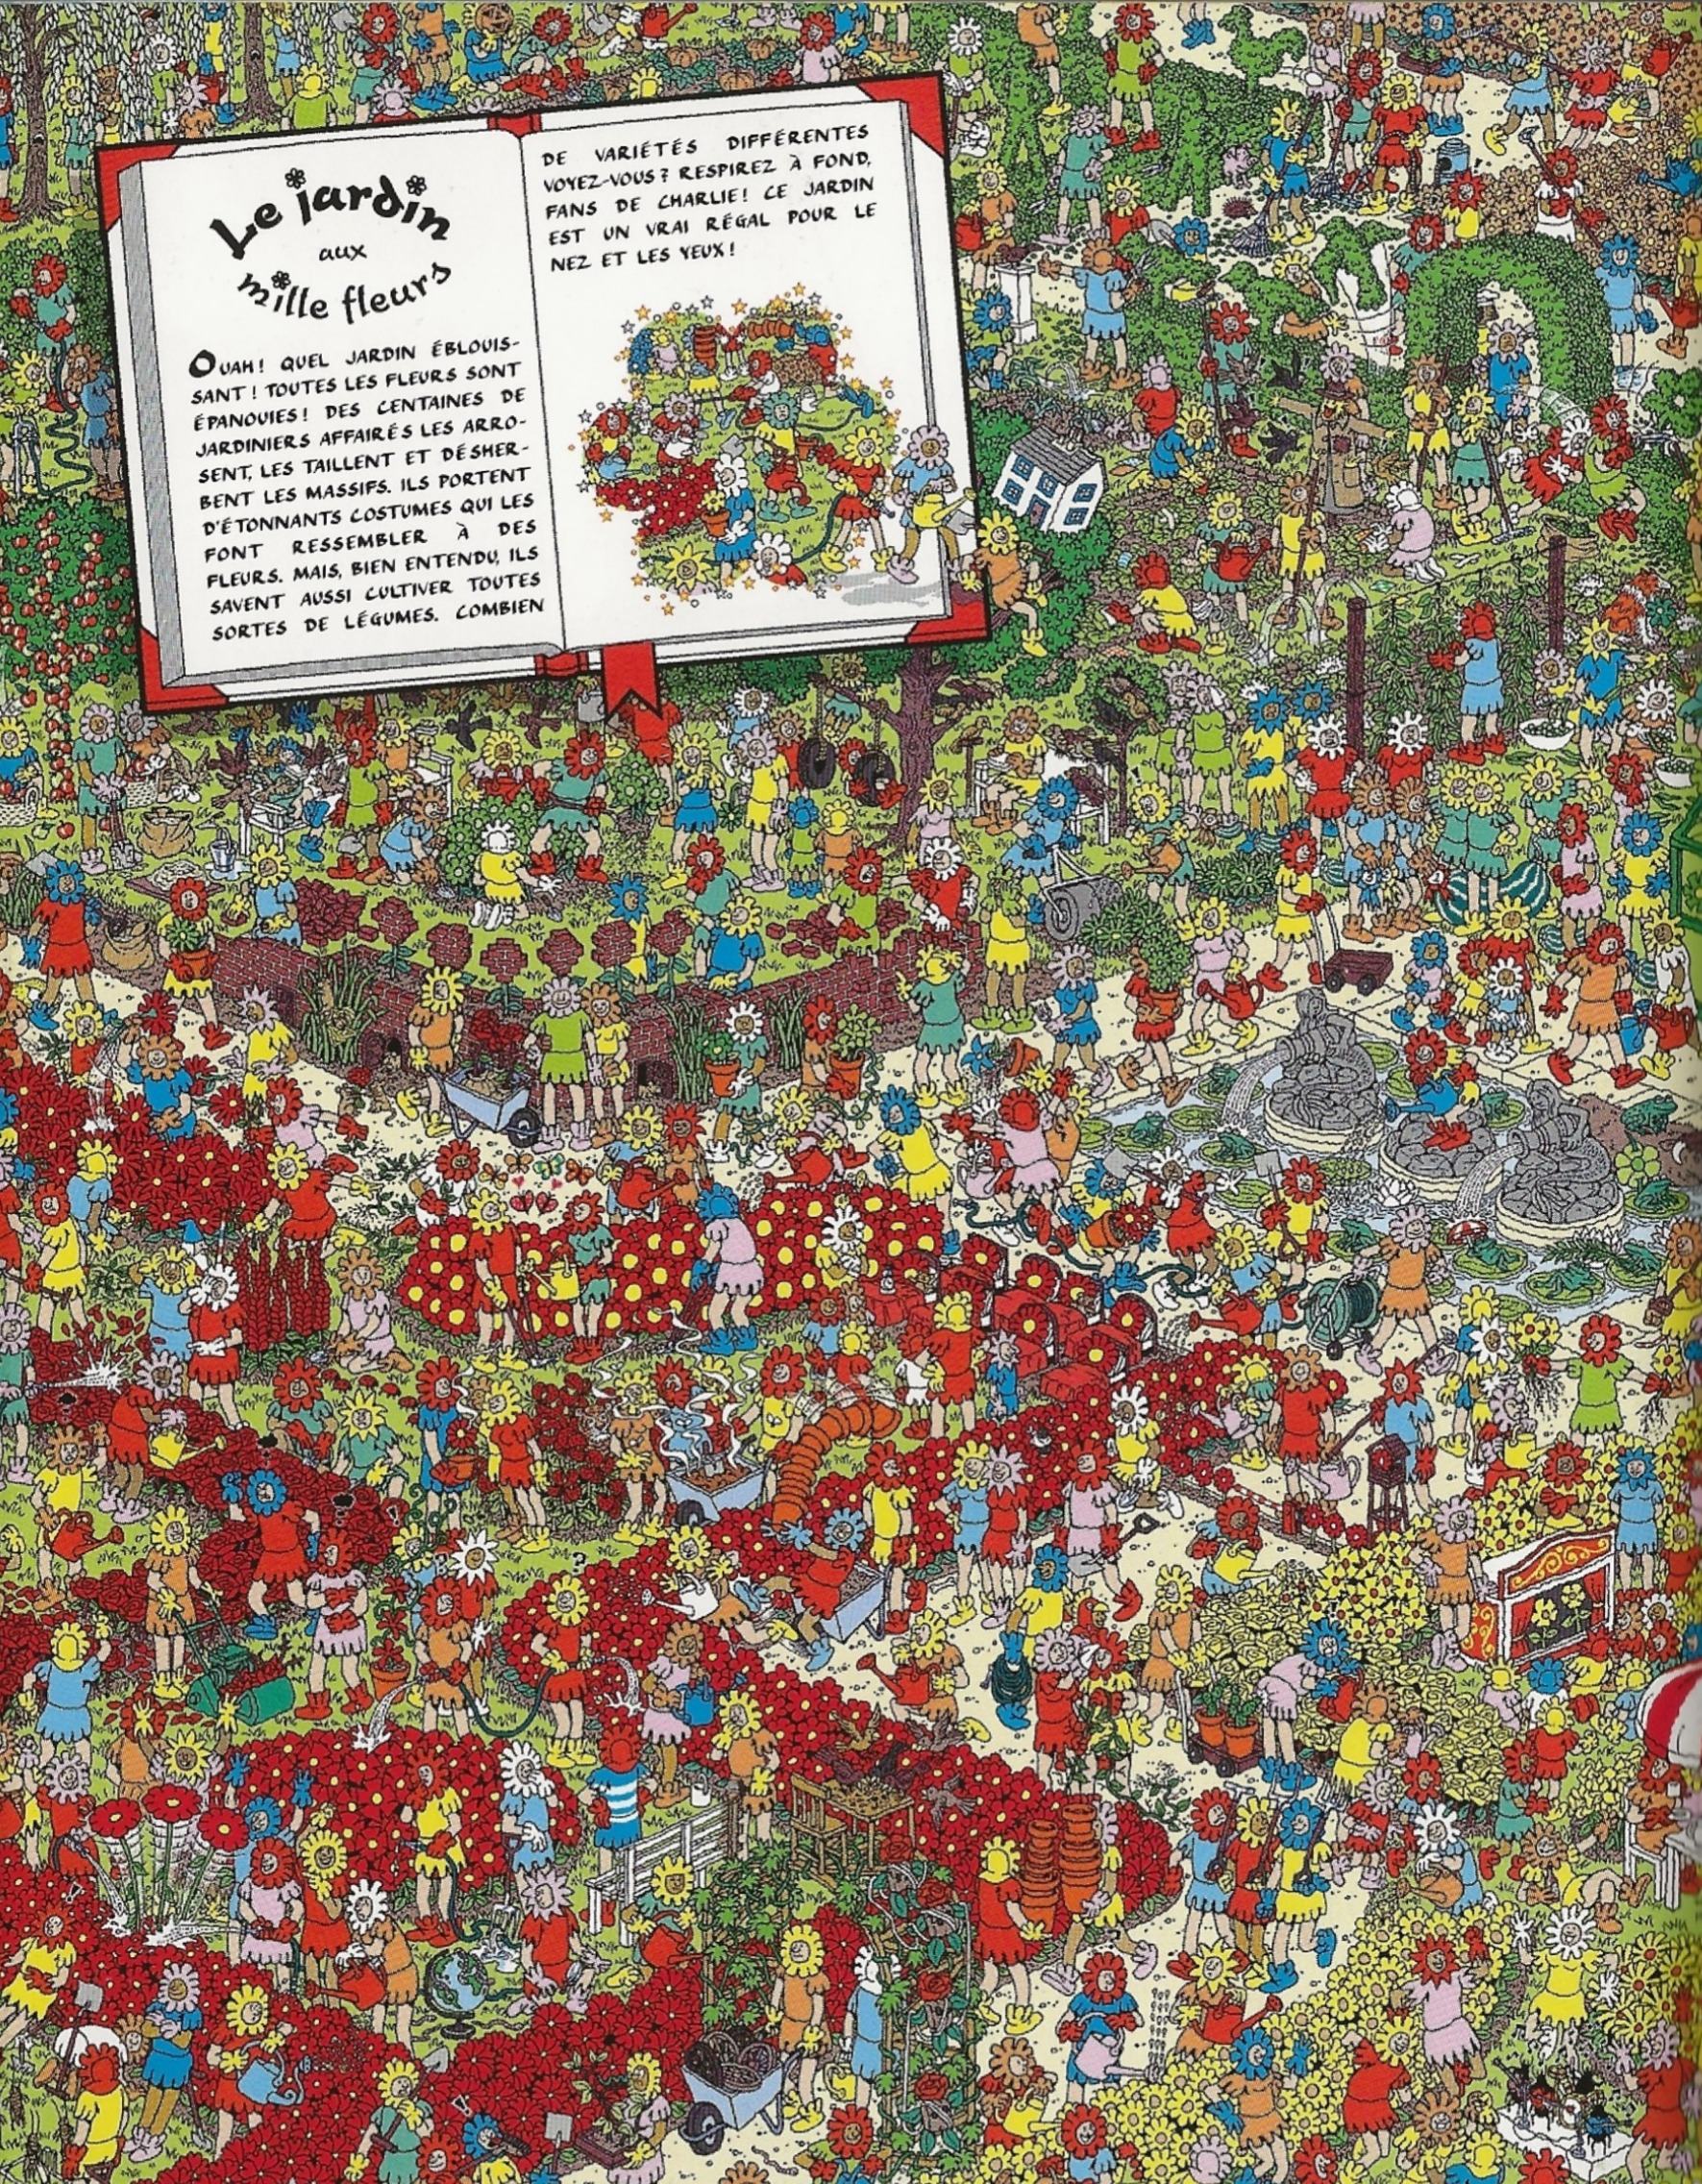Charlie: (138, 9, 168, 71)
Wizard Whitebeard: (176, 1214, 211, 1289)
